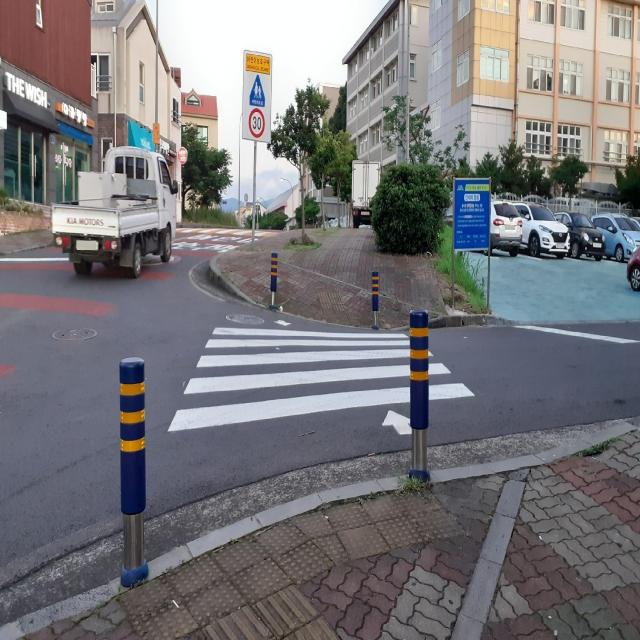횡단보도: (167, 318, 476, 436)
